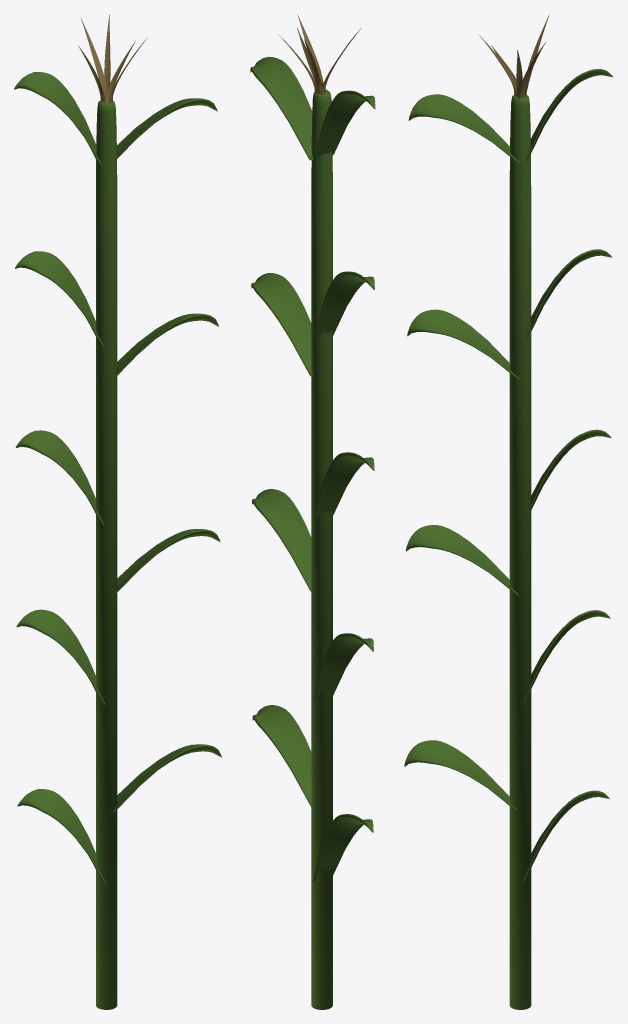
Rendered from corn-stalk.fbx.
The picture shows the model from 3 angles, left to right: view 1: azimuth 90°, elevation 25°; view 2: azimuth 210°, elevation 25°; view 3: azimuth 270°, elevation 25°; orthographic projection.
Visible parts, largest first — view 1: corn stalk; view 2: corn stalk; view 3: corn stalk.
Part boxes in pixels (x1=…): corn stalk: x1=14, y1=14, x2=221, y2=1009; corn stalk: x1=250, y1=14, x2=375, y2=1009; corn stalk: x1=404, y1=15, x2=613, y2=1009.
Bounding box in the file's own units: 303 × 4137 × 801.
